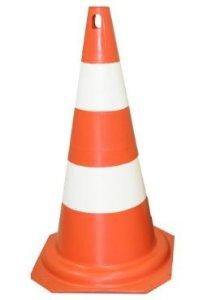traffic_cone: (30, 5, 175, 294)
